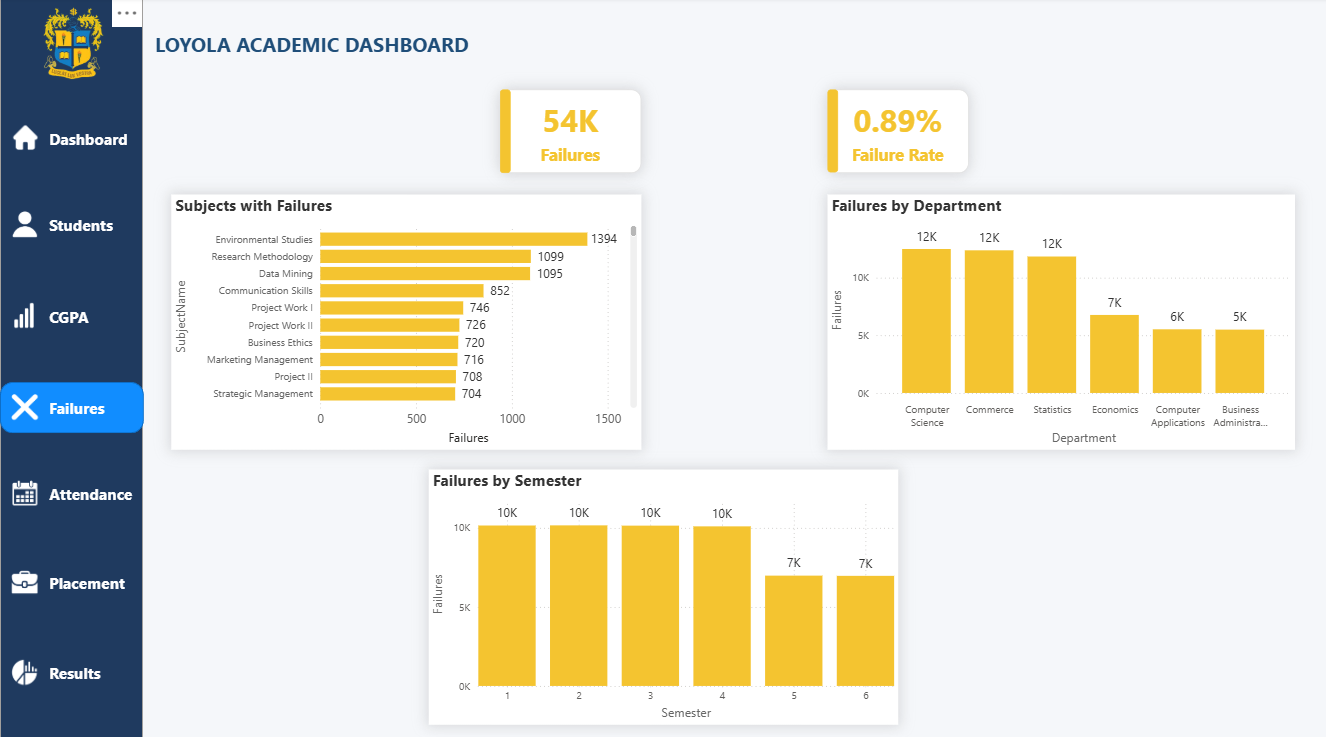

The dashboard page shown, as its layout file describes it:
{"tool":"powerbi","page":{"name":"Failures","canvas":[1600,900],"ordinal":3},"visuals":[{"type":"shape","box":[0,0,171.9,900.3],"z":0},{"type":"shape","title":"Shape1","box":[0,464.5,173.4,61.8],"z":0,"group":"g10"},{"type":"textbox","box":[173.4,36.2,405.7,64.8],"z":1000},{"type":"image","box":[12.9,257.2,33.2,33.2],"z":1000,"group":"g4"},{"type":"group","id":"g1","title":"Group 10","box":[12.9,477.4,136.1,40.1],"z":1000,"group":"g10"},{"type":"image","box":[39.2,9,98,95],"z":2000},{"type":"card","fields":{"Values":["scores.Failure Rate"]},"box":[998.3,111.6,170.2,101],"z":4000,"group":"g3"},{"type":"image","box":[12.9,367.3,33.2,33.2],"z":4000,"group":"g5"},{"type":"card","fields":{"Values":["scores.Failures"]},"box":[602.8,111.7,170.2,101],"z":5000,"group":"g2"},{"type":"image","box":[12.9,477.4,33.2,33.2],"z":6000,"group":"g1"},{"type":"clusteredColumnChart","title":"Failures by Semester","fields":{"Category":["scores.Semester"],"Y":["scores.Failures"]},"box":[516.7,570,566.7,308.3],"z":6000},{"type":"clusteredBarChart","title":"Subjects with Failures","fields":{"Category":["scores.SubjectName"],"Y":["scores.Failures"]},"box":[206.6,238.3,567,307.6],"z":7000},{"type":"clusteredColumnChart","title":"Failures by Department","fields":{"Category":["students.Department"],"Y":["scores.Failures"]},"box":[998.3,238.3,564,307.6],"z":8000},{"type":"image","box":[12.9,583,33.2,33.2],"z":8000,"group":"g6"},{"type":"group","id":"g2","title":"Group 2","box":[602.8,111.4,170.2,101.2],"z":9000},{"type":"group","id":"g3","title":"Group 3","box":[998,111.6,170.5,101],"z":10000},{"type":"image","box":[12.9,688.5,33.2,33.2],"z":10000,"group":"g7"},{"type":"group","id":"g4","title":"Group 8","box":[12.9,257.2,136.1,40.2],"z":11000},{"type":"group","id":"g5","title":"Group 9","box":[12.9,367.3,101.8,40.2],"z":12000},{"type":"image","box":[12.9,797.1,33.2,33.2],"z":12000,"group":"g8"},{"type":"group","id":"g6","title":"Group 11","box":[12.9,582.5,160.2,39.7],"z":13000},{"type":"group","id":"g7","title":"Group 12","box":[12.9,688.5,150.5,40],"z":14000},{"type":"image","title":"Home","box":[12.9,153.2,33.2,31.7],"z":15000,"group":"g9"},{"type":"group","id":"g8","title":"Group 13","box":[12.9,797,114.4,39.7],"z":15000},{"type":"shape","box":[998,111.8,12.7,100],"z":16000,"group":"g3"},{"type":"group","id":"g9","title":"Group 6","box":[12.9,153.2,148.7,39.7],"z":16000},{"type":"group","id":"g10","title":"Group 1","box":[0,464.5,173.4,61.8],"z":17000},{"type":"shape","box":[602.9,111.4,12.5,100.8],"z":18000,"group":"g2"},{"type":"textbox","box":[53.4,153.2,108.2,39.7],"z":24000,"group":"g9"},{"type":"textbox","box":[53.4,257.8,95.6,39.7],"z":25000,"group":"g4"},{"type":"textbox","box":[53.4,367.8,61.3,39.7],"z":26000,"group":"g5"},{"type":"textbox","box":[53.4,477.8,95.6,39.7],"z":27000,"group":"g1"},{"type":"textbox","box":[54.1,582.5,119,39.7],"z":28000,"group":"g6"},{"type":"textbox","box":[53.4,688.8,110,39.7],"z":29000,"group":"g7"},{"type":"textbox","box":[53.4,797,73.9,39.7],"z":30000,"group":"g8"}]}

Visuals, with their boxes on the page's 1600x900 design canvas (x1, y1, x2, y2). These are canvas units, not pixel positions in the 1326x737 screenshot, which may show the page scaled, cropped or inside an application window:
shape: 0,0,172,900
"Shape1" shape: 0,464,173,526
textbox: 173,36,579,101
image: 13,257,46,290
"Group 10" group: 13,477,149,518
image: 39,9,137,104
card - scores.Failure Rate: 998,112,1168,213
image: 13,367,46,400
card - scores.Failures: 603,112,773,213
image: 13,477,46,511
"Failures by Semester" clusteredColumnChart: 517,570,1083,878
"Subjects with Failures" clusteredBarChart: 207,238,774,546
"Failures by Department" clusteredColumnChart: 998,238,1562,546
image: 13,583,46,616
"Group 2" group: 603,111,773,213
"Group 3" group: 998,112,1168,213
image: 13,688,46,722
"Group 8" group: 13,257,149,297
"Group 9" group: 13,367,115,408
image: 13,797,46,830
"Group 11" group: 13,582,173,622
"Group 12" group: 13,688,163,728
"Home" image: 13,153,46,185
"Group 13" group: 13,797,127,837
shape: 998,112,1011,212
"Group 6" group: 13,153,162,193
"Group 1" group: 0,464,173,526
shape: 603,111,615,212
textbox: 53,153,162,193
textbox: 53,258,149,298
textbox: 53,368,115,408
textbox: 53,478,149,518
textbox: 54,582,173,622
textbox: 53,689,163,728
textbox: 53,797,127,837
